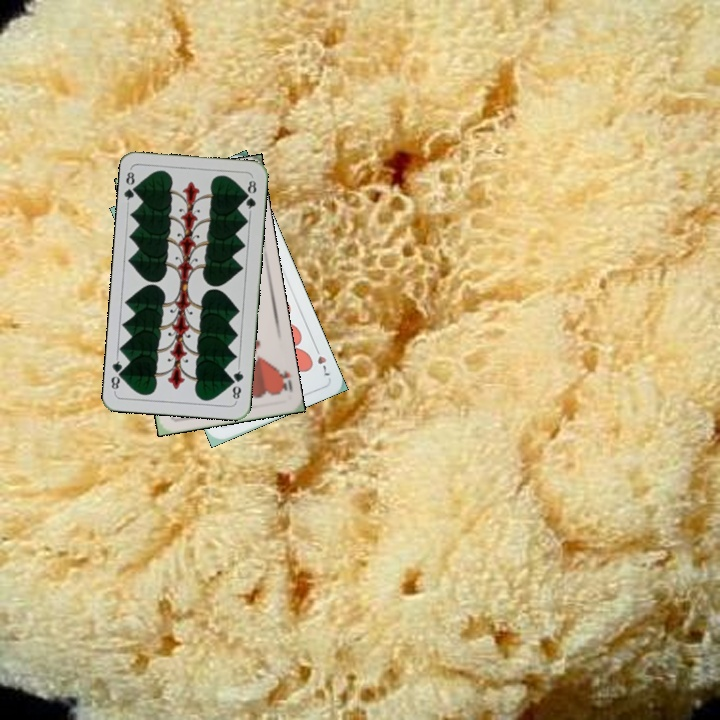G8: (121, 166, 141, 206), (228, 363, 246, 404)
H7: (310, 341, 333, 378)
HO: (272, 362, 293, 397)
